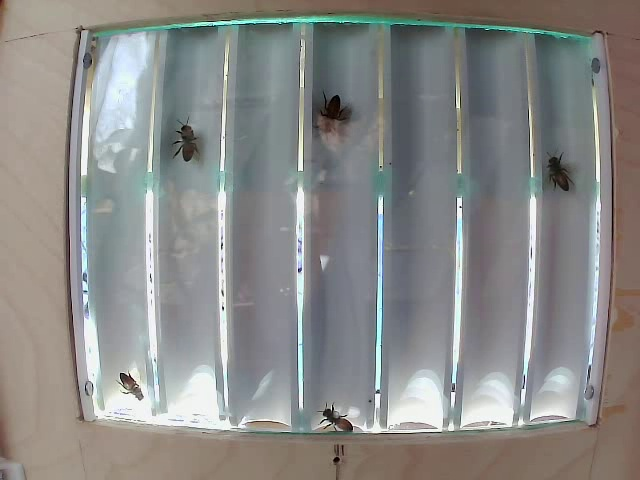bee: (303, 79, 358, 145), (164, 115, 215, 175), (110, 368, 152, 407), (544, 147, 573, 193)
